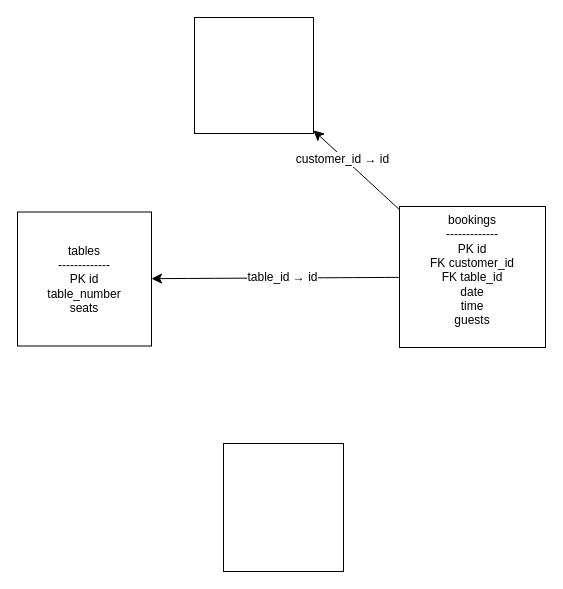
Some shapes in this 563 by 589 pixel diagram are drawn without their labels. The shapes that lost their labels are listed below. From the top down, each one's centre as x and y in pixels, then its label:
At point 254,75: "customers ------------- PK id name phone email".
At point 283,507: "menu_items ------------- PK id name description price category".
